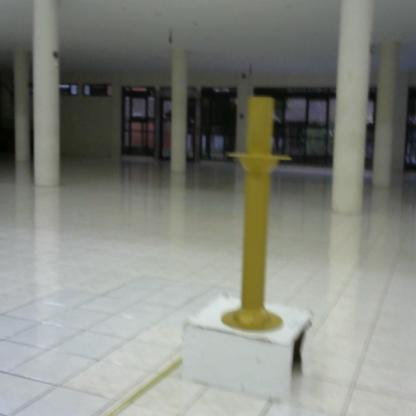pole: (217, 92, 296, 342)
